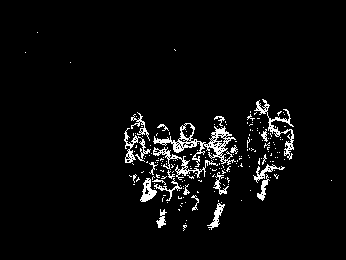person: (205, 113, 242, 232), (172, 121, 208, 229), (148, 121, 178, 229), (261, 108, 294, 203), (126, 112, 159, 206), (248, 96, 271, 185)
